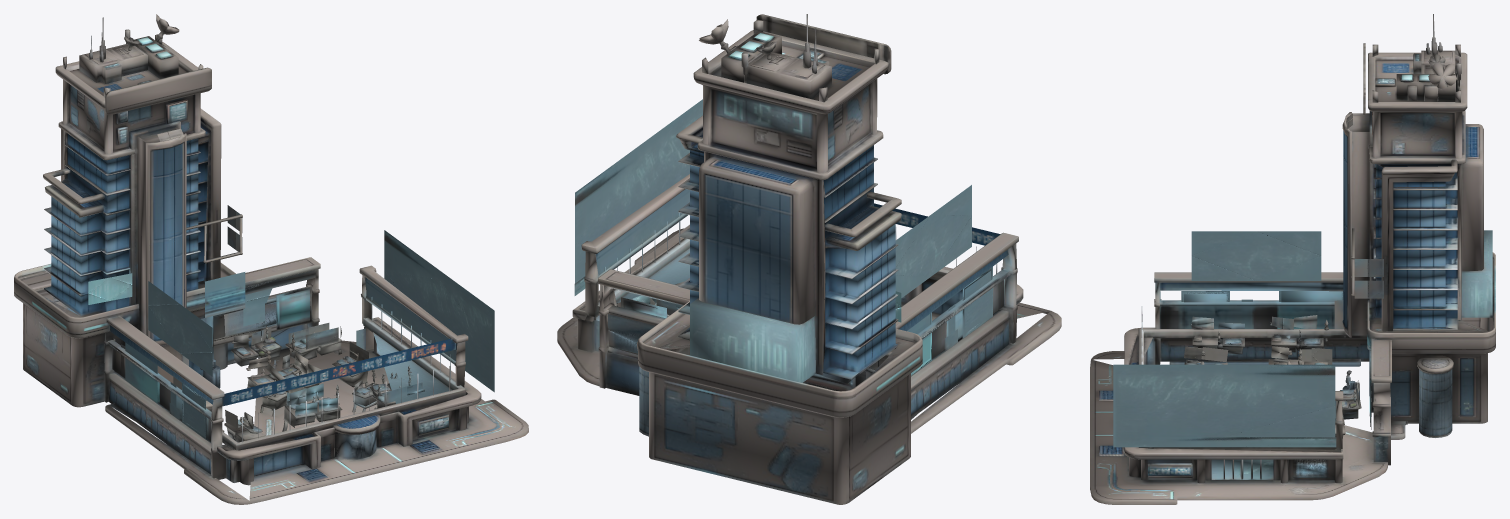
File: stock-exchange-level5.glb
3 renders of one model, left to right at view 1: azimuth 30°, elevation 25°; view 2: azimuth 150°, elevation 25°; view 3: azimuth 270°, elevation 25°, orthographic. The views are drawn at different scales.
Visible parts, largest first — view 1: tripo_node_90be4d8e-f914-4ad3-bffd-f8594b2f9ae5; view 2: tripo_node_90be4d8e-f914-4ad3-bffd-f8594b2f9ae5; view 3: tripo_node_90be4d8e-f914-4ad3-bffd-f8594b2f9ae5.
Part boxes in pixels (bbox=[...]): tripo_node_90be4d8e-f914-4ad3-bffd-f8594b2f9ae5: bbox=[14, 14, 528, 504]; tripo_node_90be4d8e-f914-4ad3-bffd-f8594b2f9ae5: bbox=[557, 14, 1061, 504]; tripo_node_90be4d8e-f914-4ad3-bffd-f8594b2f9ae5: bbox=[1090, 14, 1495, 504].
Size of the model in its own units: 28.8 by 30 by 30.6.
Materials: 1 (1 with a texture image).
